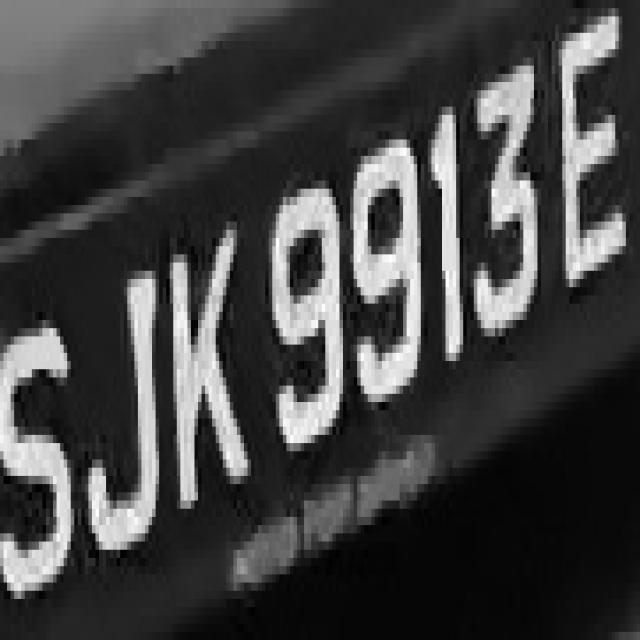1: (424, 90, 474, 394)
3: (460, 49, 541, 361)
9: (346, 115, 435, 435), (262, 172, 350, 484)
E: (555, 16, 633, 312)
J: (67, 238, 173, 574)
K: (159, 197, 258, 525)
